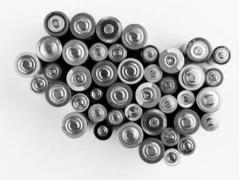electronic: (36, 6, 76, 42)
